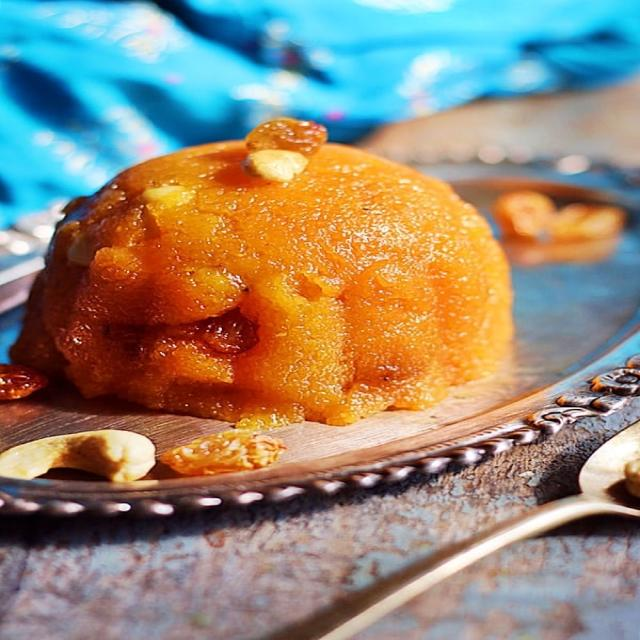kesari bath: (0, 107, 542, 437)
